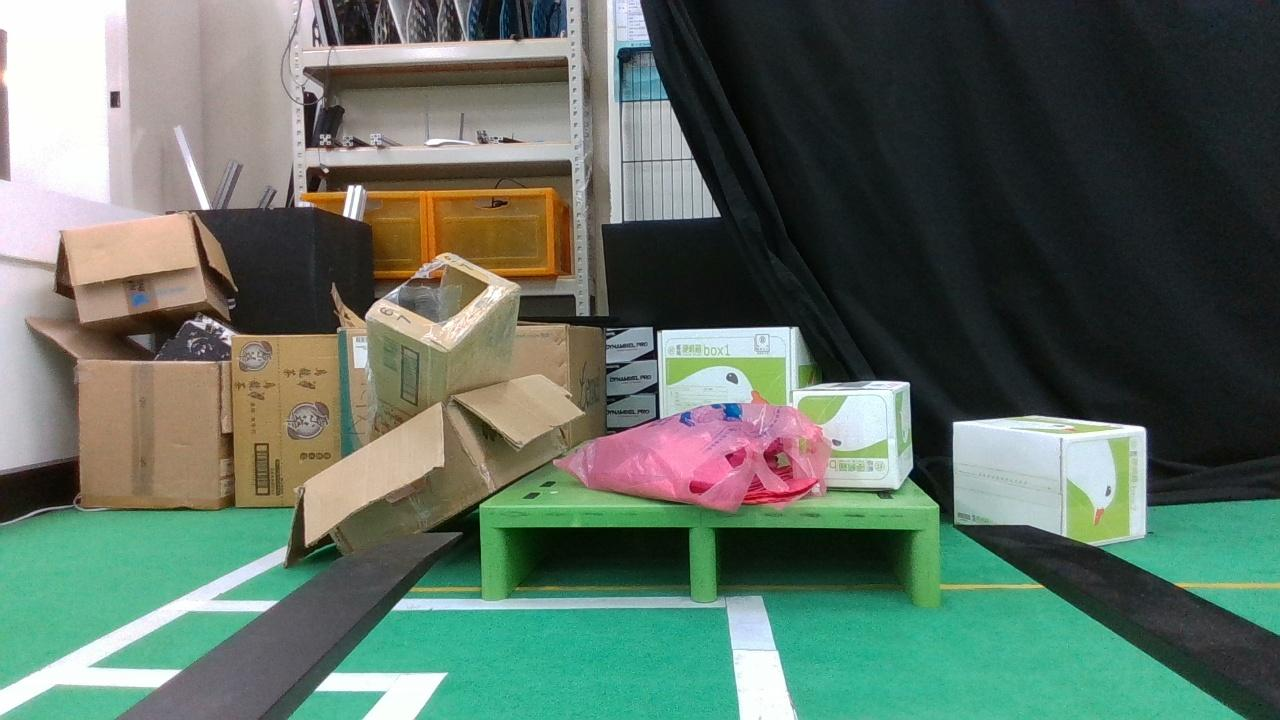Pallet: (479, 506, 940, 609)
